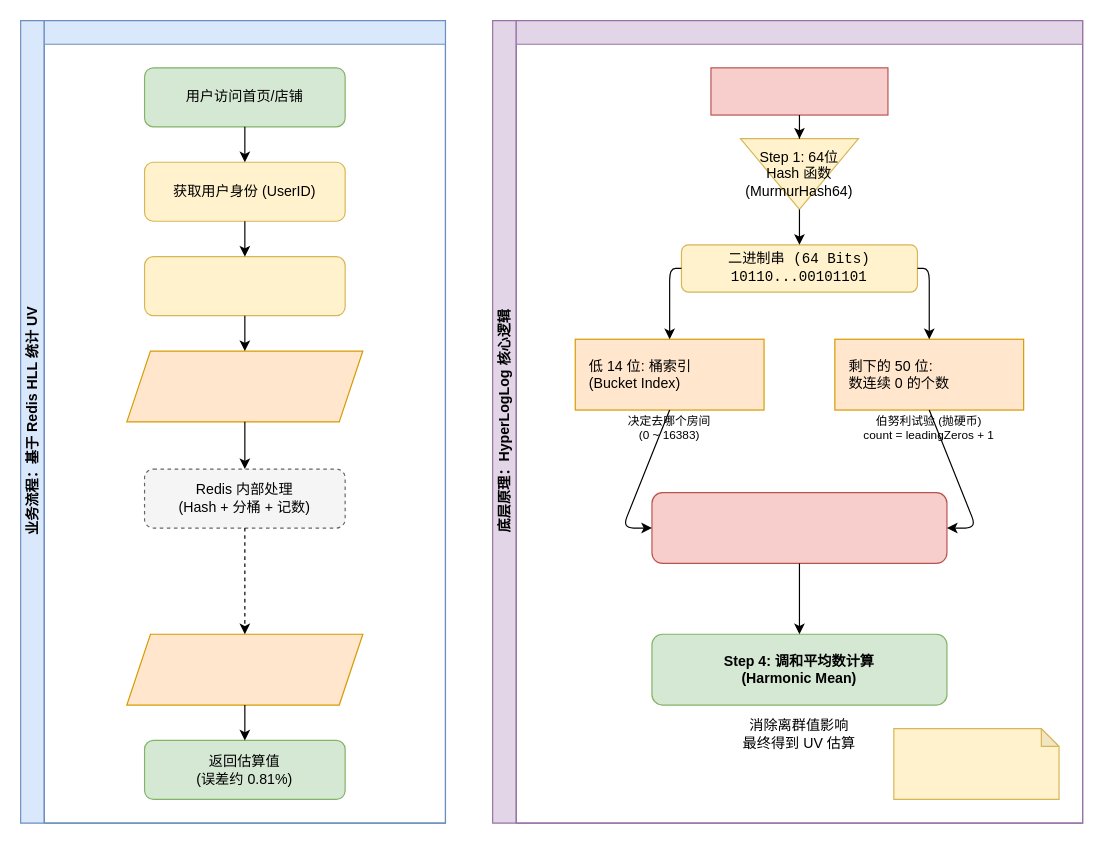
Some shapes in this 1103 by 844 pixel diagram are drawn without their labels. The centre of each missing label's shape, as x and y in pixels:
16384 Buckets * 6 bits ≈ 12 KB 固定内存: pixel 976 763
Step 3: 更新桶数据 Bucket[idx] = max(old, count): pixel 799 527
原始数据 (Value) 例如: userId = 1001: pixel 799 91
执行 Redis 命令 PFADD key userId: pixel 244 386
拼接 Redis Key 例如: uv:shop:101: pixel 244 285
需要统计时: PFCOUNT key: pixel 244 669
